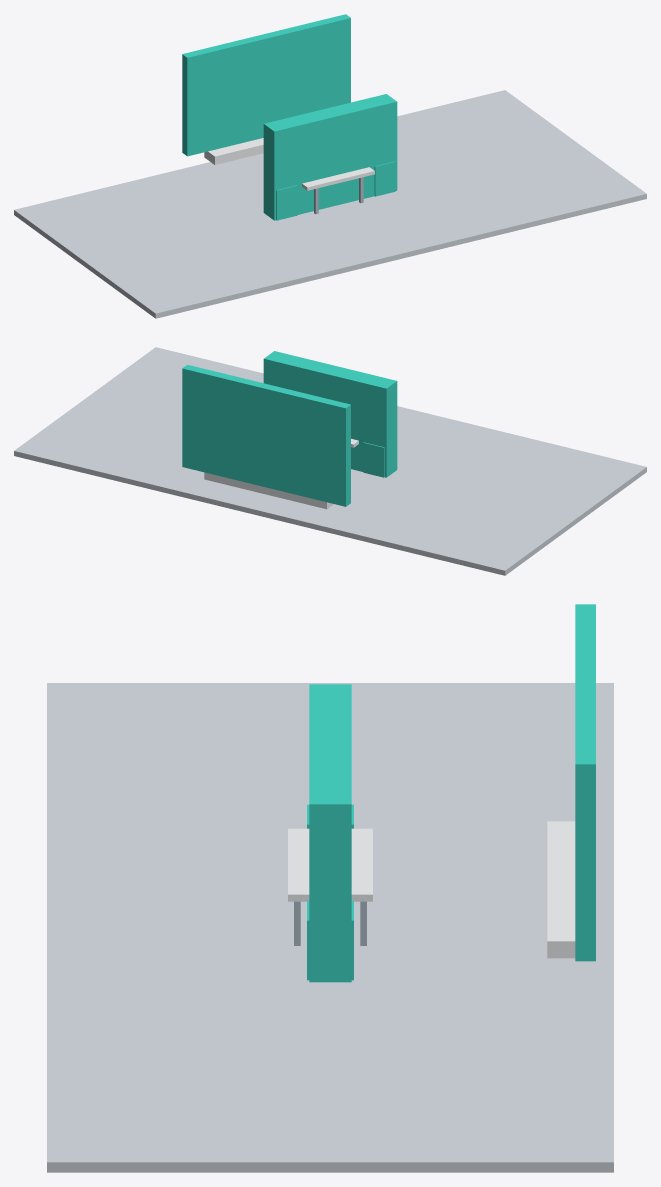
The picture shows the model from 3 angles, top to bottom: view 1: azimuth 30°, elevation 25°; view 2: azimuth 150°, elevation 25°; view 3: azimuth 270°, elevation 25°; orthographic projection. The views are drawn at different scales.
Parts seen in each view (by area): view 1: Exhibition Booth Concept; view 2: Exhibition Booth Concept; view 3: Exhibition Booth Concept.
Part boxes in pixels (box(x1,y1,x2,y2)): Exhibition Booth Concept: box(14, 14, 646, 318); Exhibition Booth Concept: box(14, 347, 646, 575); Exhibition Booth Concept: box(47, 604, 613, 1172).
Bounding box in the file's own units: 12 × 2.9 × 6.
